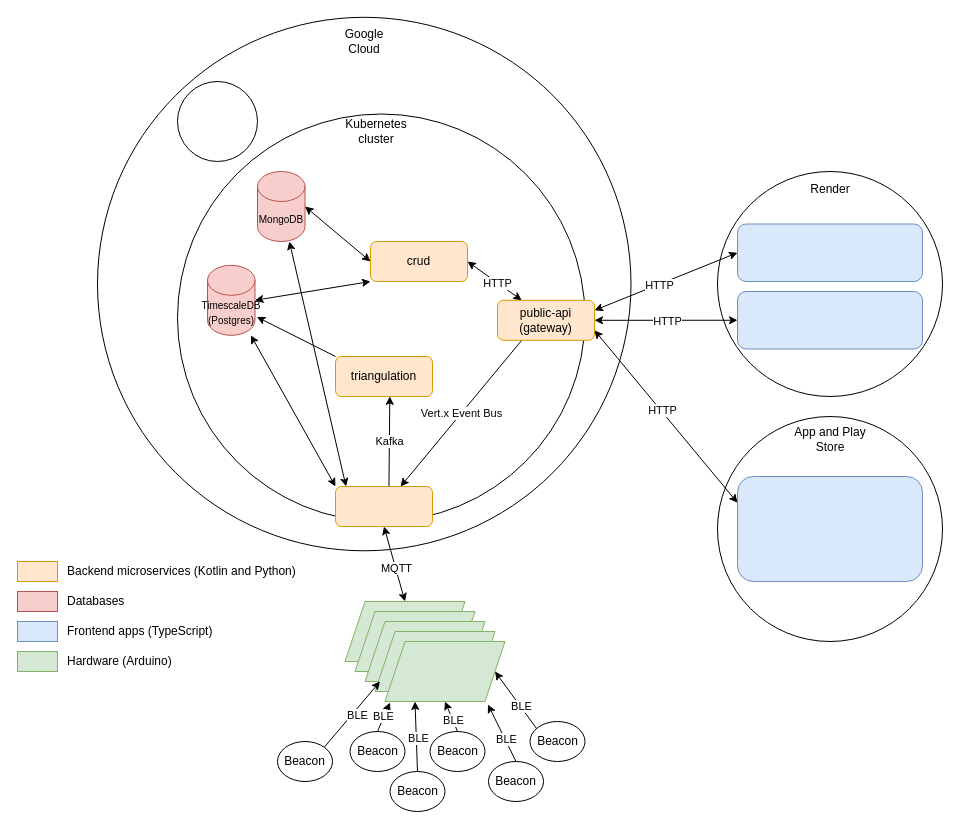
Image size: 960x830. Some labels were removed from this diagram. The shapes that lost their labels are listed below. From the top down, each one's box as (x1, y1, x2, y2) in pixels, then its label:
(176, 80, 258, 162): VM used to turn on and off the cluster
(736, 223, 922, 282): Geolocation app (React.js)
(736, 290, 922, 349): Inventory app (React.js)
(334, 486, 432, 526): relays-communication
(736, 476, 922, 582): Mobile (React Native)
(384, 640, 505, 702): Relays
